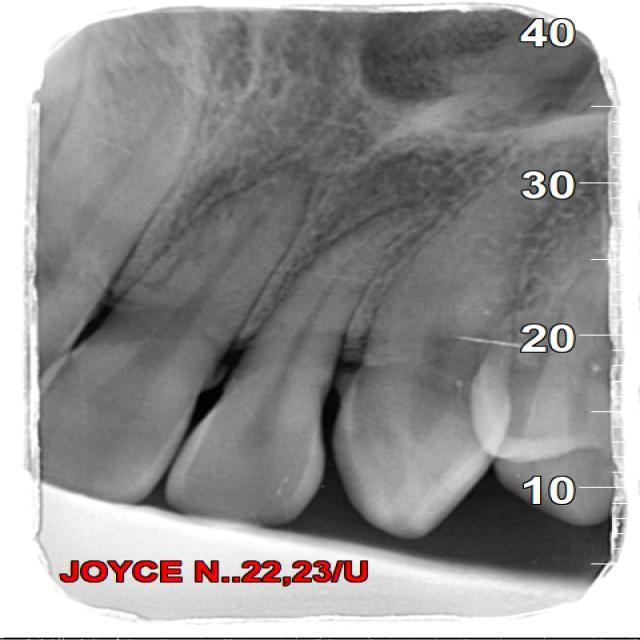individual-tooth-8tto: (19, 167, 312, 505), (338, 144, 568, 538), (163, 208, 420, 530)
